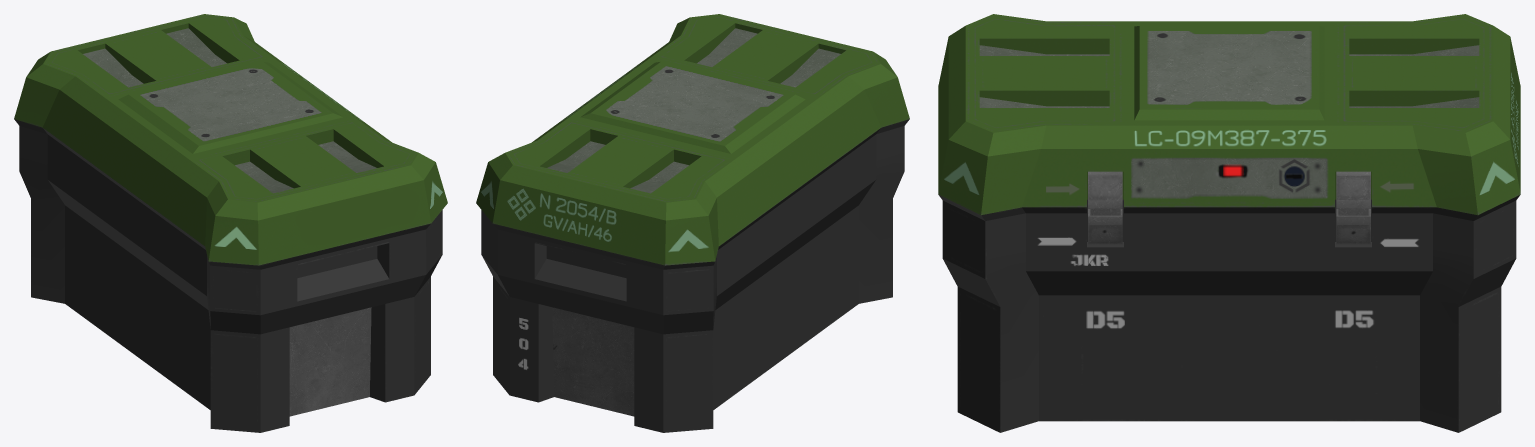
The picture shows the model from 3 angles, left to right: view 1: azimuth 30°, elevation 25°; view 2: azimuth 150°, elevation 25°; view 3: azimuth 270°, elevation 25°; orthographic projection. The views are drawn at different scales.
Visible parts, largest first — view 1: down_low, top_low, top2_low; view 2: down_low, top_low, top2_low; view 3: down_low, top_low, top2_low, lock_low.
Boxes of the visible parts, x1,y1,x2,y2 form: down_low: [14, 119, 442, 432]; top_low: [14, 14, 447, 265]; top2_low: [118, 61, 343, 153]; down_low: [481, 119, 909, 432]; top_low: [476, 14, 909, 265]; top2_low: [580, 61, 805, 153]; down_low: [938, 194, 1520, 432]; top_low: [938, 14, 1520, 215]; top2_low: [1134, 26, 1324, 120]; lock_low: [1088, 171, 1370, 244].
Bounding box in the file's own units: 78.52 × 72.84 × 130.
Materials: 1 (1 with a texture image).
